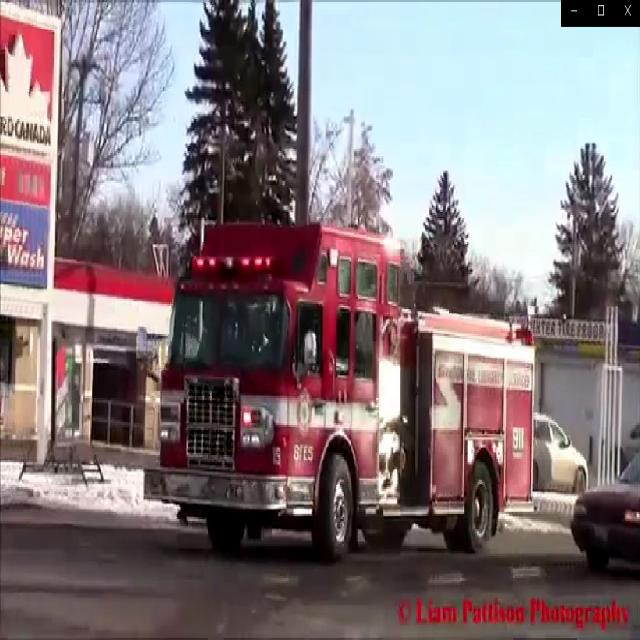emergency: (141, 208, 536, 563)
